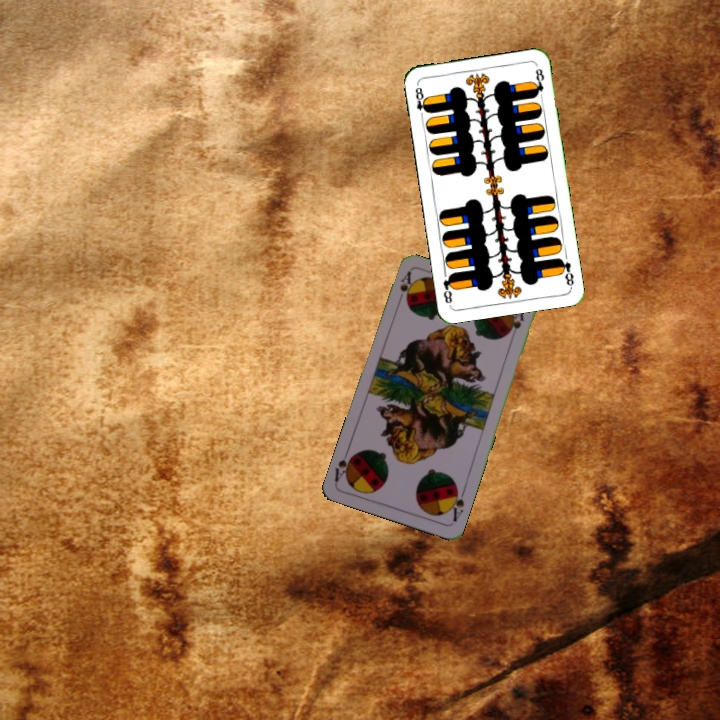E8: (411, 80, 431, 121), (555, 254, 576, 289)
SA: (444, 483, 468, 524), (393, 268, 415, 307)
